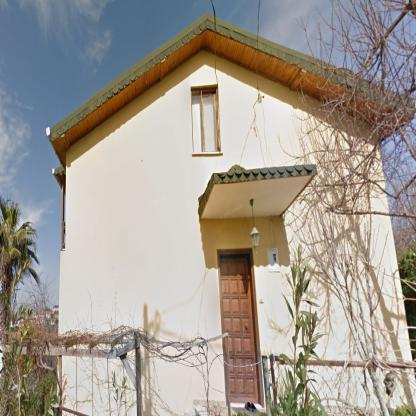door: (219, 256, 258, 399)
window: (192, 92, 217, 152)
